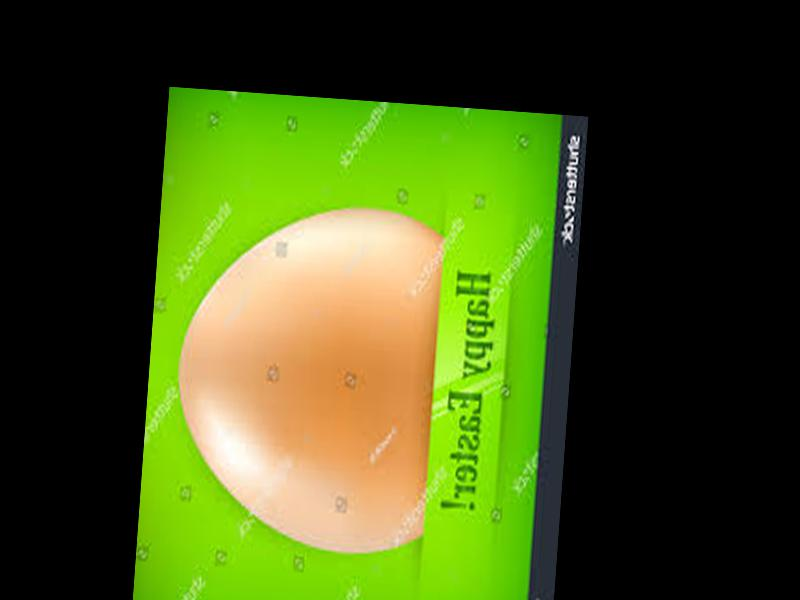Eggs: (166, 197, 445, 557)
